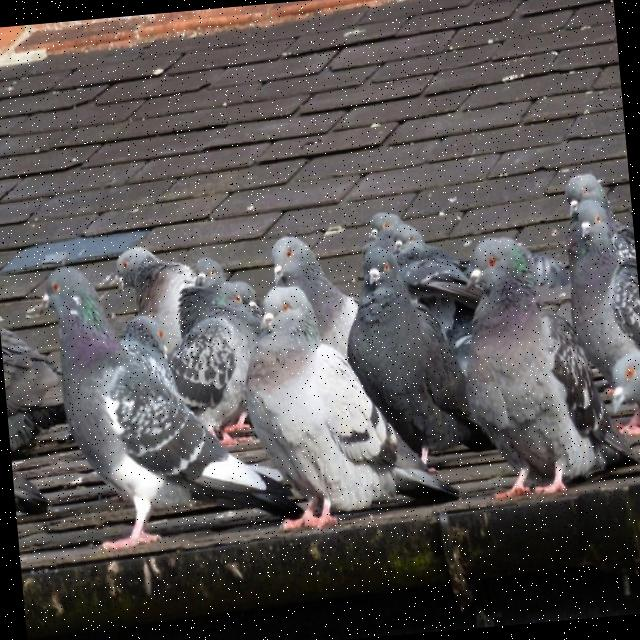bird: (165, 44, 243, 168), (322, 163, 422, 254), (470, 350, 572, 435), (522, 278, 622, 361), (9, 86, 100, 172), (100, 181, 196, 259), (397, 54, 478, 145), (240, 130, 330, 207), (78, 122, 151, 212), (372, 118, 421, 178), (609, 91, 629, 180)
